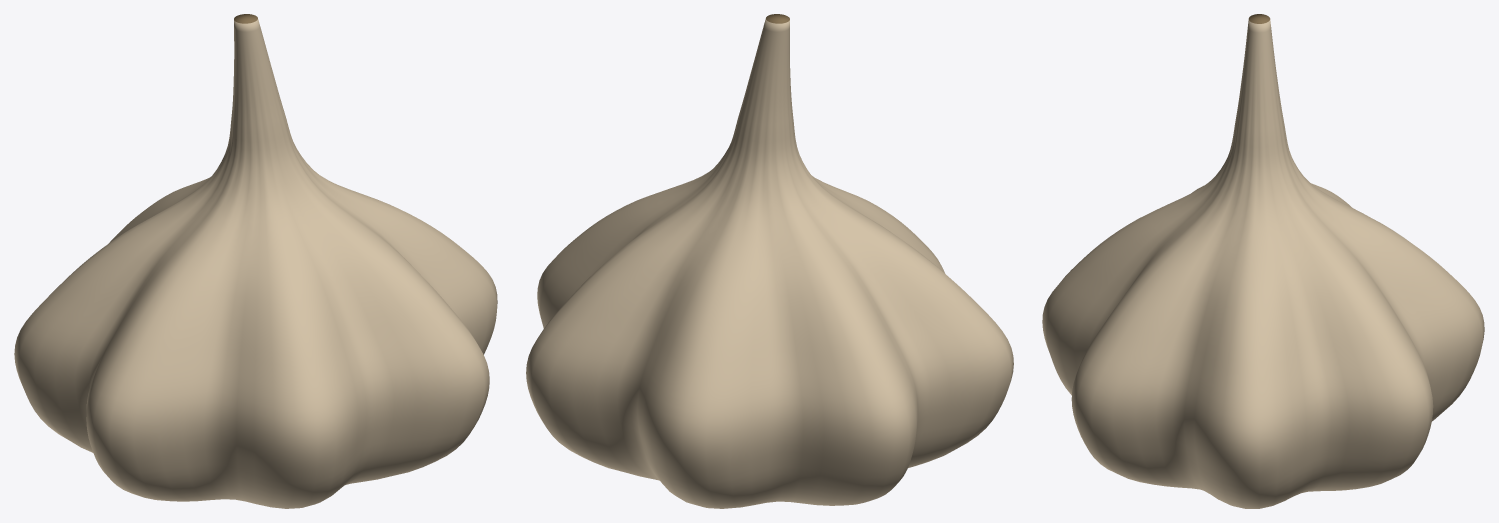
The model's file is A-NEW-20261027-GARLIC-001_LOD1_R1.fbx.
The picture shows the model from 3 angles, left to right: view 1: azimuth 30°, elevation 25°; view 2: azimuth 150°, elevation 25°; view 3: azimuth 270°, elevation 25°; orthographic projection. The views are drawn at different scales.
Parts seen in each view (by area): view 1: continuous original garlic clove lobes and dry neck; view 2: continuous original garlic clove lobes and dry neck; view 3: continuous original garlic clove lobes and dry neck.
Boxes of the visible parts, x1,y1,x2,y2 form: continuous original garlic clove lobes and dry neck: [14, 14, 497, 508]; continuous original garlic clove lobes and dry neck: [526, 14, 1013, 508]; continuous original garlic clove lobes and dry neck: [1042, 14, 1484, 508].
Size of the model in its own units: 7.73 by 7.86 by 7.1.
